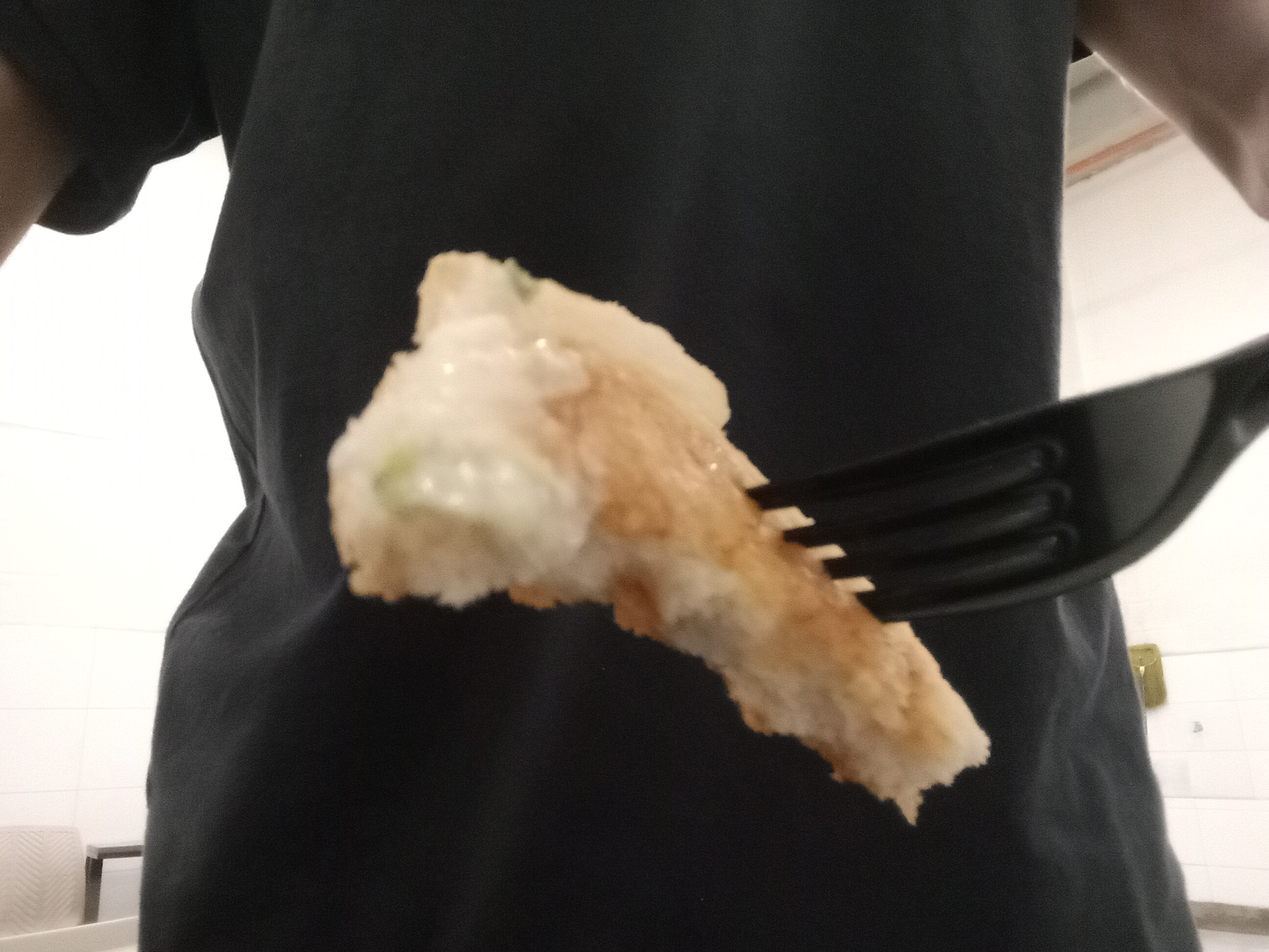Organico: (327, 251, 993, 825)
